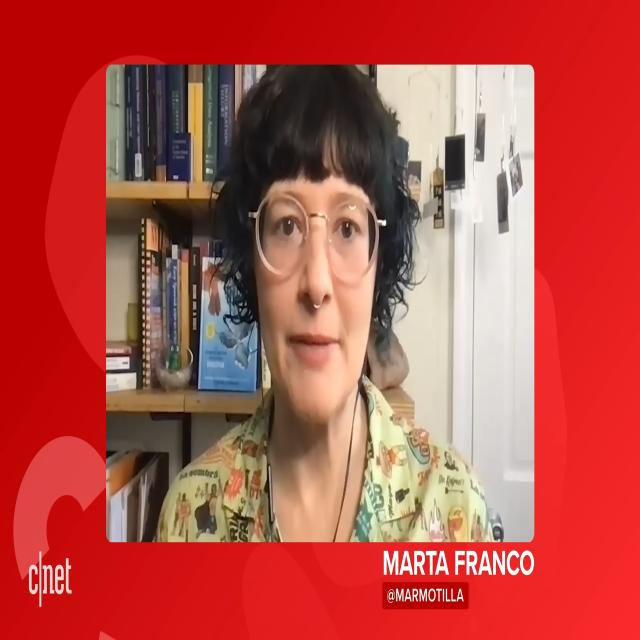dress: (154, 372, 500, 542)
glasses: (254, 186, 384, 286)
